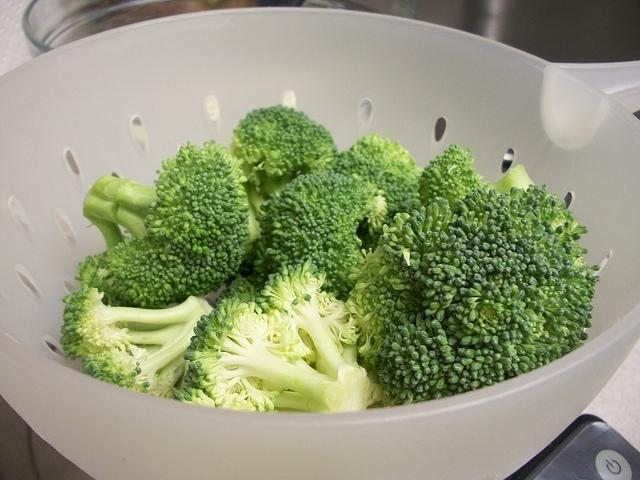broccoli: (174, 257, 384, 413), (107, 141, 250, 308), (252, 169, 388, 302), (60, 287, 214, 402), (232, 105, 338, 217), (326, 134, 424, 226), (417, 144, 536, 216)
